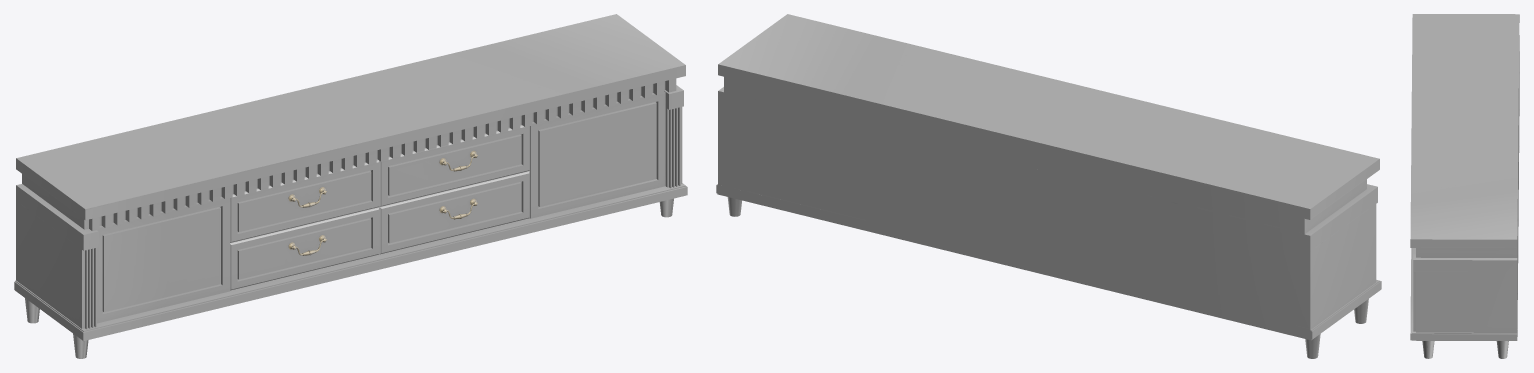
File: raw_model.obj
3 renders of one model, left to right at view 1: azimuth 30°, elevation 25°; view 2: azimuth 150°, elevation 25°; view 3: azimuth 270°, elevation 25°, orthographic. The views are drawn at different scales.
Visible parts, largest first — view 1: solid_001, solid_002; view 2: solid_001; view 3: solid_001.
Boxes of the visible parts, left/top/right/bottom form: solid_001: left=14, top=14, right=687, bottom=358; solid_002: left=288, top=150, right=477, bottom=255; solid_001: left=716, top=14, right=1381, bottom=358; solid_001: left=1410, top=14, right=1519, bottom=358.
Bounding box in the file's own units: 2 × 0.5 × 0.4077.
Materials: 1 (1 with a texture image).
